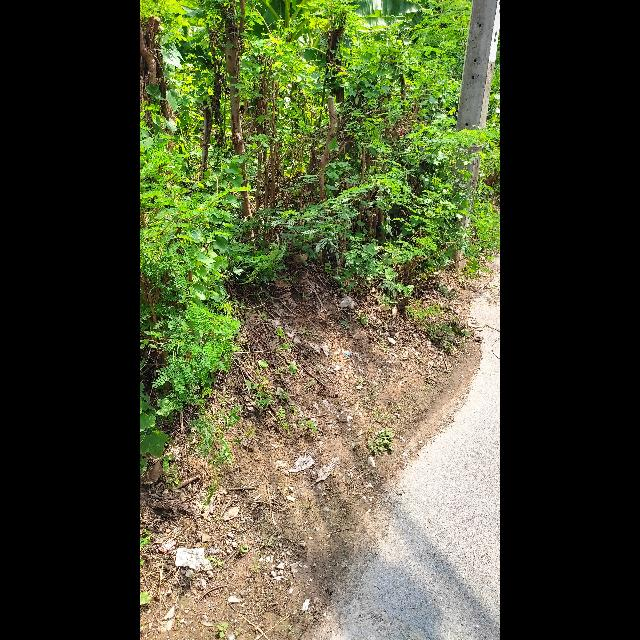scrap_paper: (161, 546, 219, 574)
